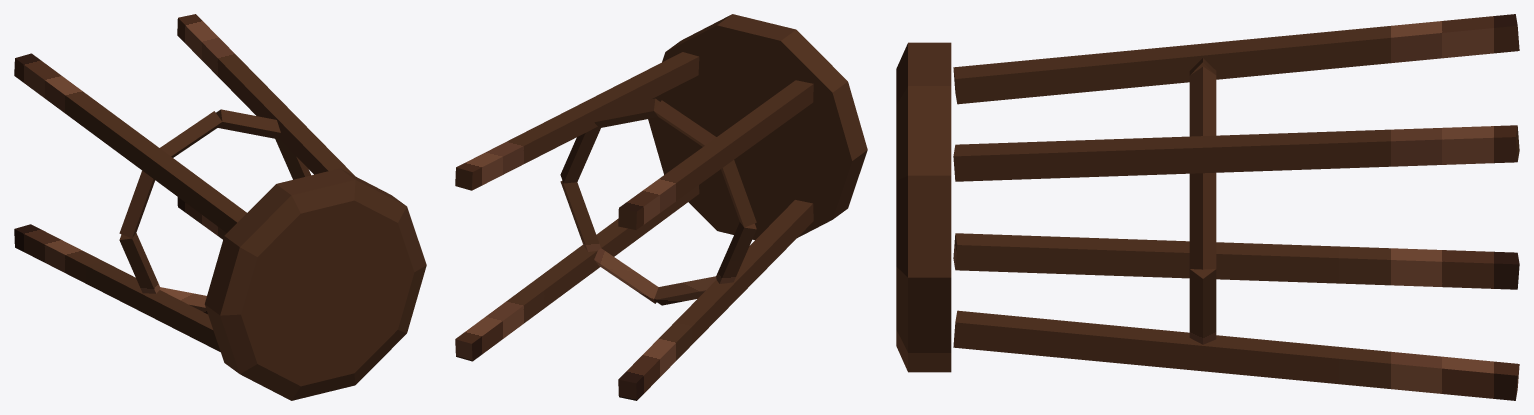
The model's file is pz_house_stool_bar_fidelity_r1.obj.
3 renders of one model, left to right at view 1: azimuth 30°, elevation 25°; view 2: azimuth 150°, elevation 25°; view 3: azimuth 270°, elevation 25°, orthographic. The views are drawn at different scales.
Parts seen in each view (by area): view 1: seat, wood; view 2: wood, seat; view 3: wood, seat.
Boxes of the visible parts, x1,y1,x2,y2 form: seat: (204, 168, 426, 400); wood: (14, 14, 354, 351); wood: (455, 52, 813, 400); seat: (648, 14, 867, 239); wood: (953, 14, 1519, 400); seat: (896, 42, 951, 372).
Bounding box in the file's own units: 0.3925 × 0.3733 × 0.7358.
1 material, 1 textured.
